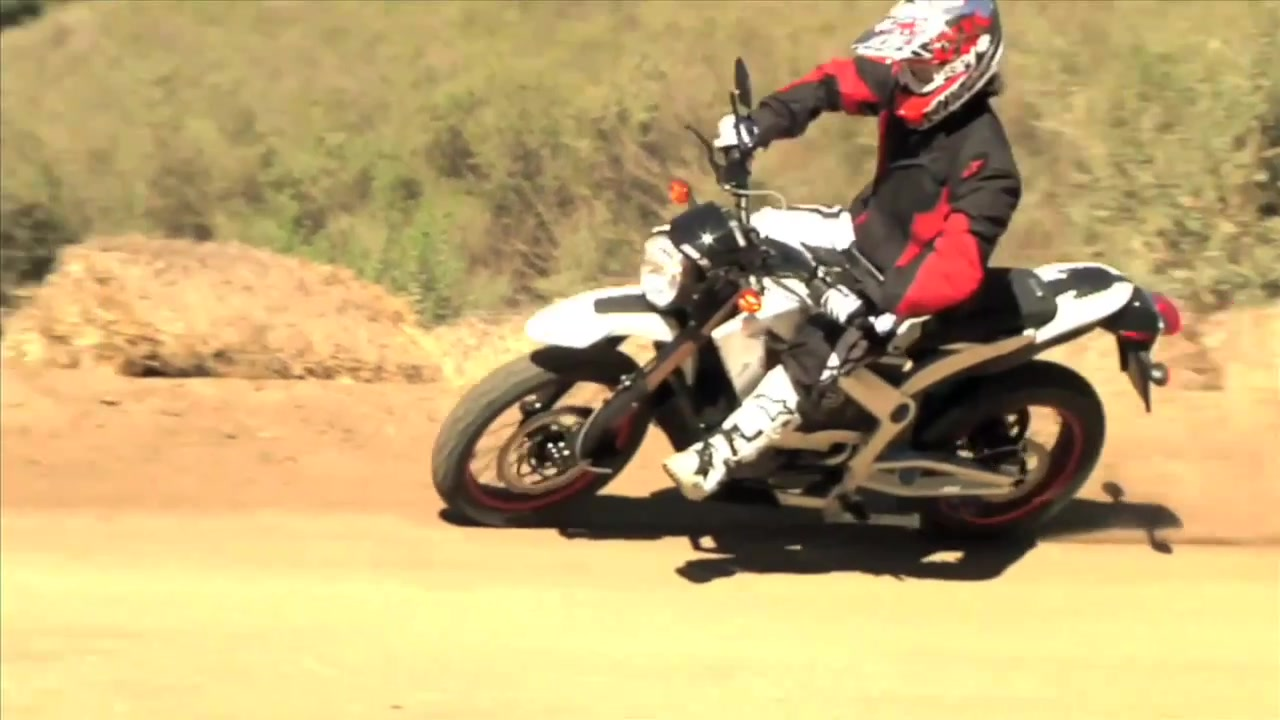motorbike: (431, 55, 1181, 536)
